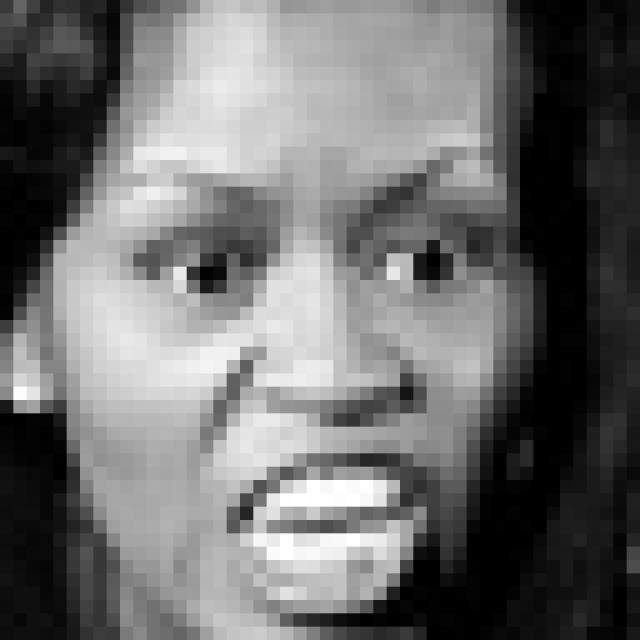angry: (110, 135, 518, 618)
